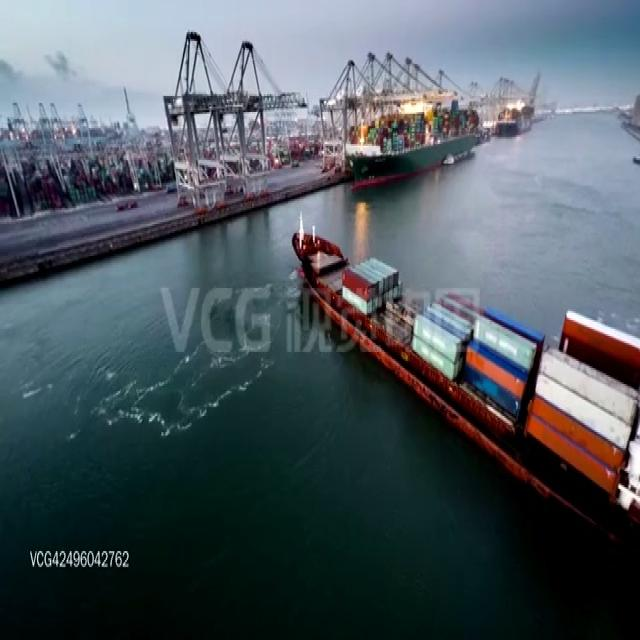cargoship: (289, 206, 640, 534)
